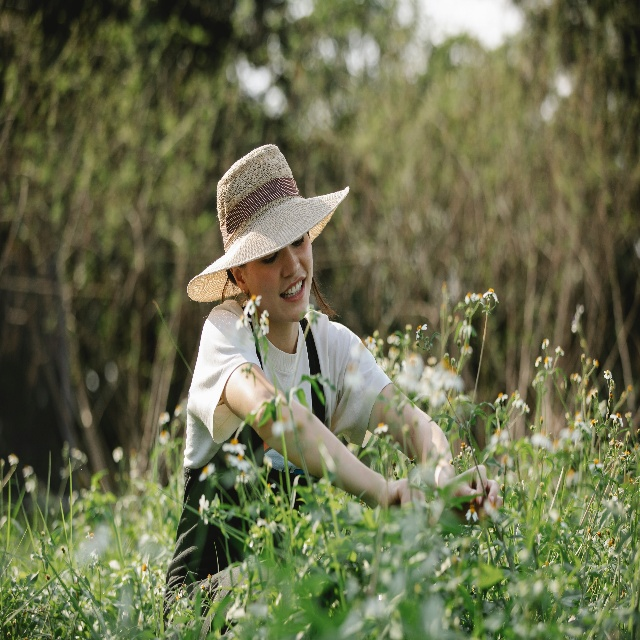Sin_guantes: (453, 463, 503, 524), (380, 478, 423, 510)
